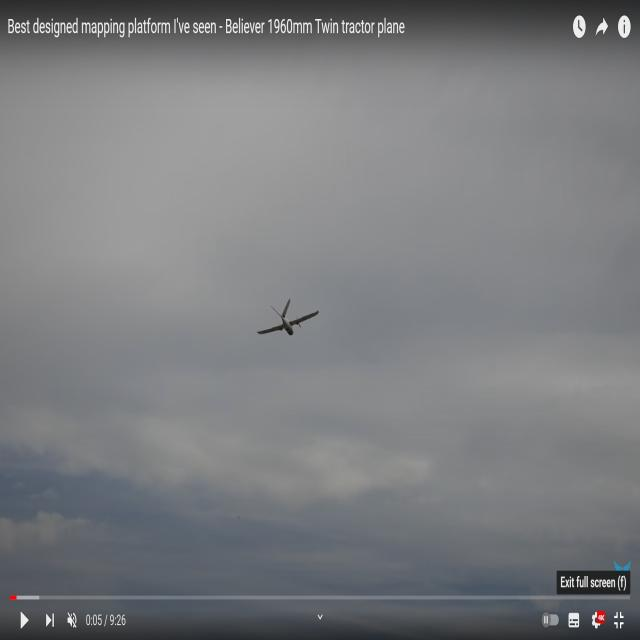iha: (256, 298, 318, 336)
